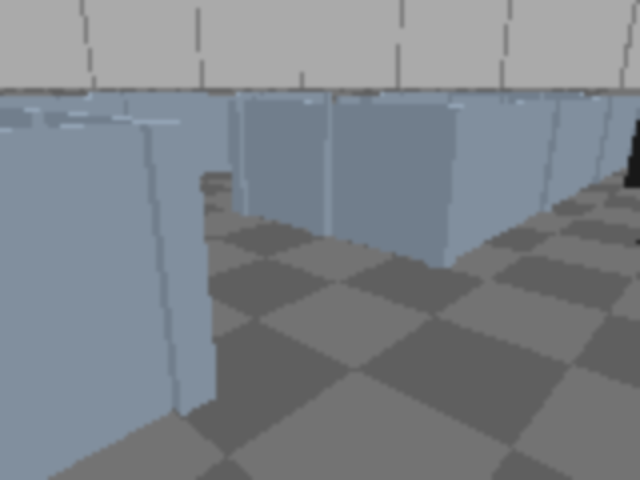traffic_light: (612, 79, 638, 255)
